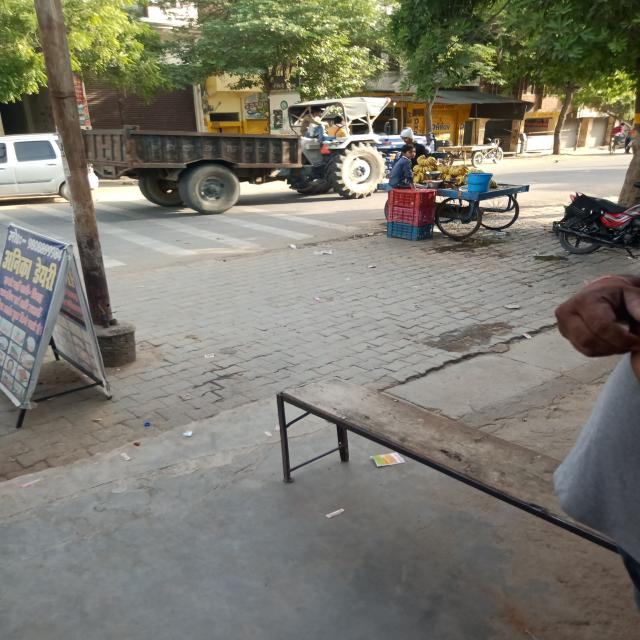Bike: (547, 187, 640, 255)
Tractor: (127, 132, 396, 203)
